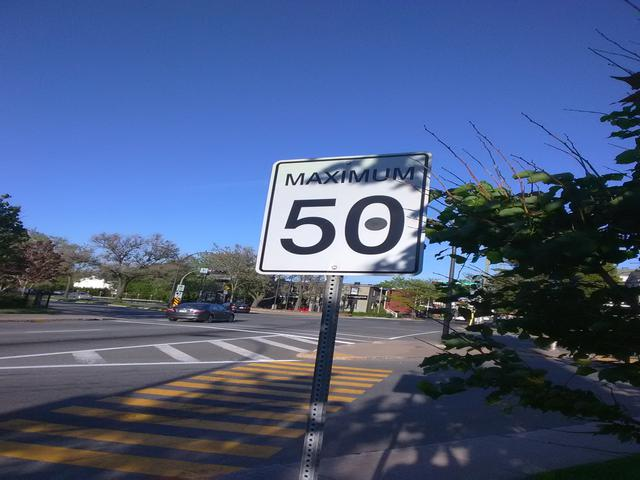vitesse: (253, 152, 434, 279)
